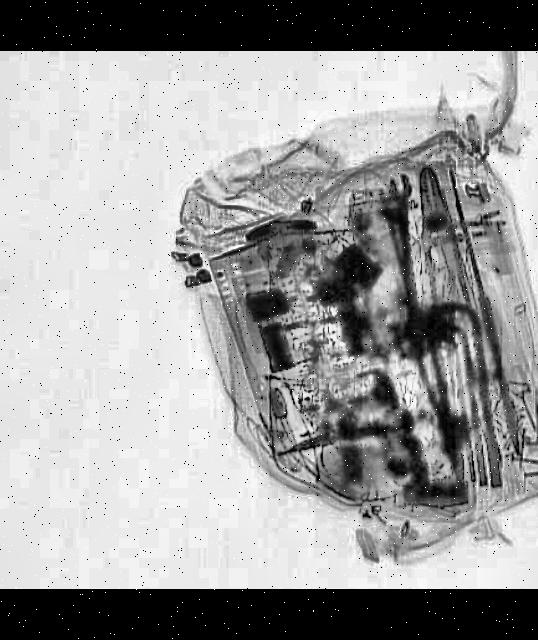Pliers: (404, 164, 470, 306)
Wrench: (383, 171, 423, 289)
